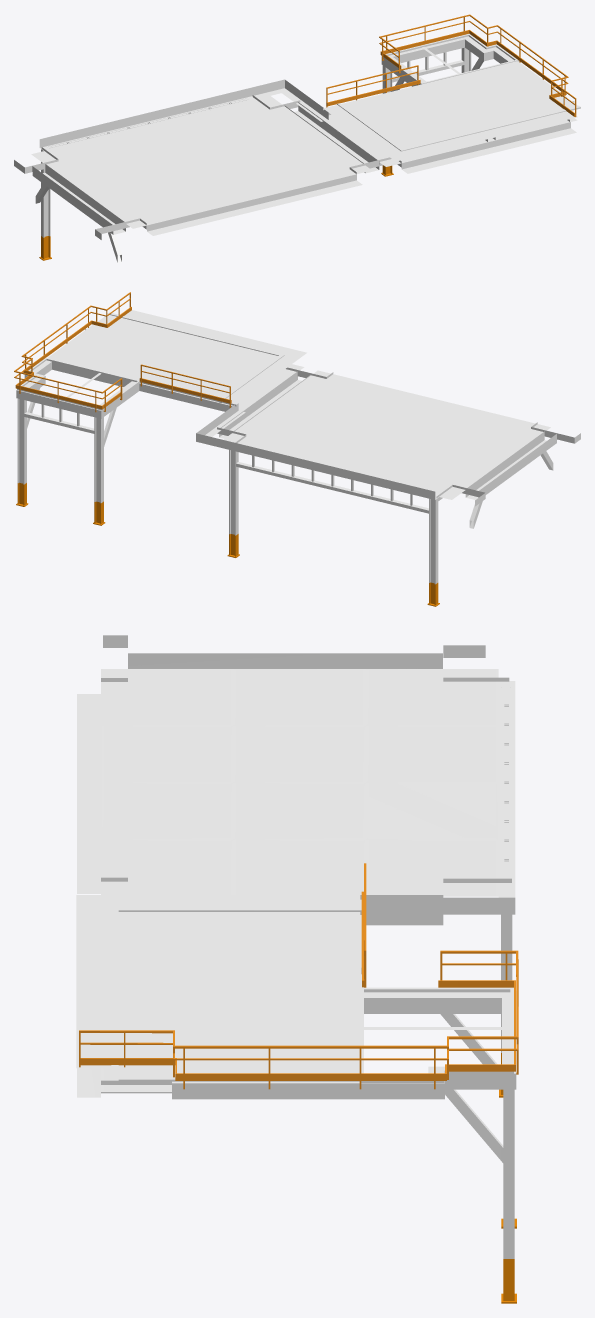
Rendered from SM_H_Building_Tide_Dock_08_ATLAS.fbx.
3 views of the same model, one above another, from view 1: azimuth 30°, elevation 25°; view 2: azimuth 150°, elevation 25°; view 3: azimuth 270°, elevation 25° (orthographic). The views are drawn at different scales.
Visible parts, largest first — view 1: SM_H_Building_Tide_Dock_08_ATLAS; view 2: SM_H_Building_Tide_Dock_08_ATLAS; view 3: SM_H_Building_Tide_Dock_08_ATLAS.
Part boxes in pixels (left/top/right/bottom): SM_H_Building_Tide_Dock_08_ATLAS: left=14, top=14, right=580, bottom=263; SM_H_Building_Tide_Dock_08_ATLAS: left=14, top=292, right=580, bottom=606; SM_H_Building_Tide_Dock_08_ATLAS: left=76, top=635, right=518, bottom=1303.
Bounding box in the file's own units: 2528 × 1012 × 677.
